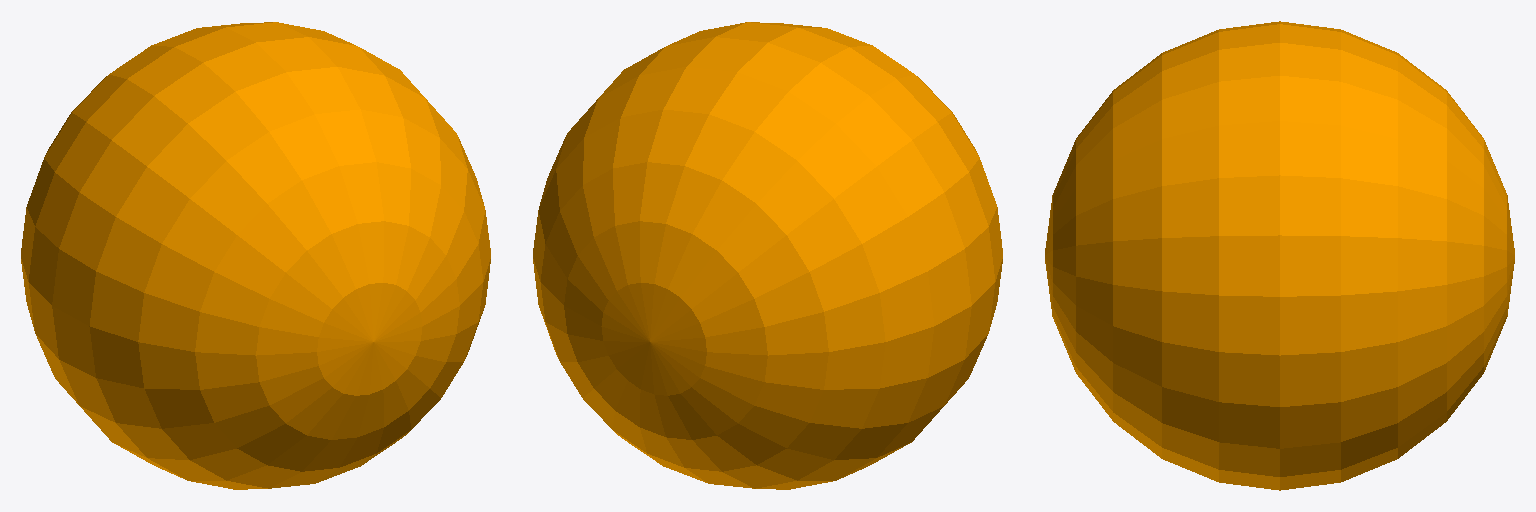
3 renders of one model, left to right at view 1: azimuth 30°, elevation 25°; view 2: azimuth 150°, elevation 25°; view 3: azimuth 270°, elevation 25°, orthographic.
Parts seen in each view (by area): view 1: solid1_4, top__5_1_5; view 2: solid1_4, top__5_1_5; view 3: solid1_4, top__5_1_5.
Boxes of the visible parts, x1=… form: solid1_4: x1=21, y1=23, x2=490, y2=488; top__5_1_5: x1=156, y1=22, x2=355, y2=107; solid1_4: x1=533, y1=23, x2=1002, y2=488; top__5_1_5: x1=668, y1=22, x2=867, y2=107; solid1_4: x1=1045, y1=21, x2=1514, y2=490; top__5_1_5: x1=1180, y1=22, x2=1379, y2=107.
Bounding box in the file's own units: 2.25 × 2.25 × 2.25.